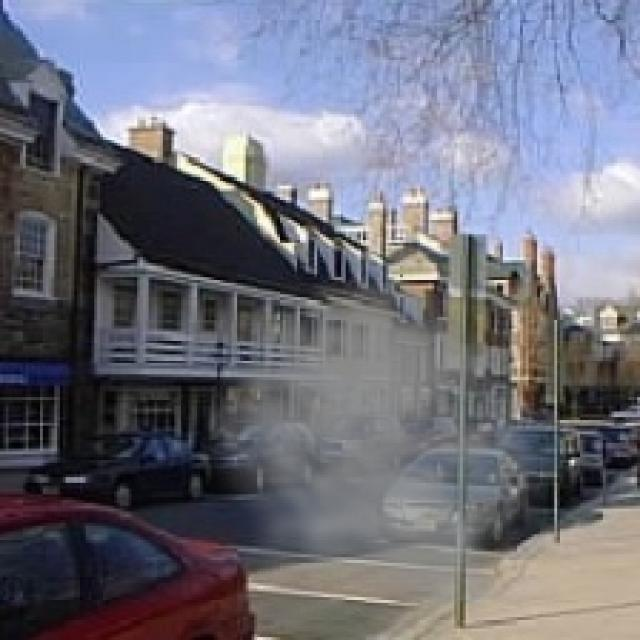Smoke: (188, 237, 572, 603)
